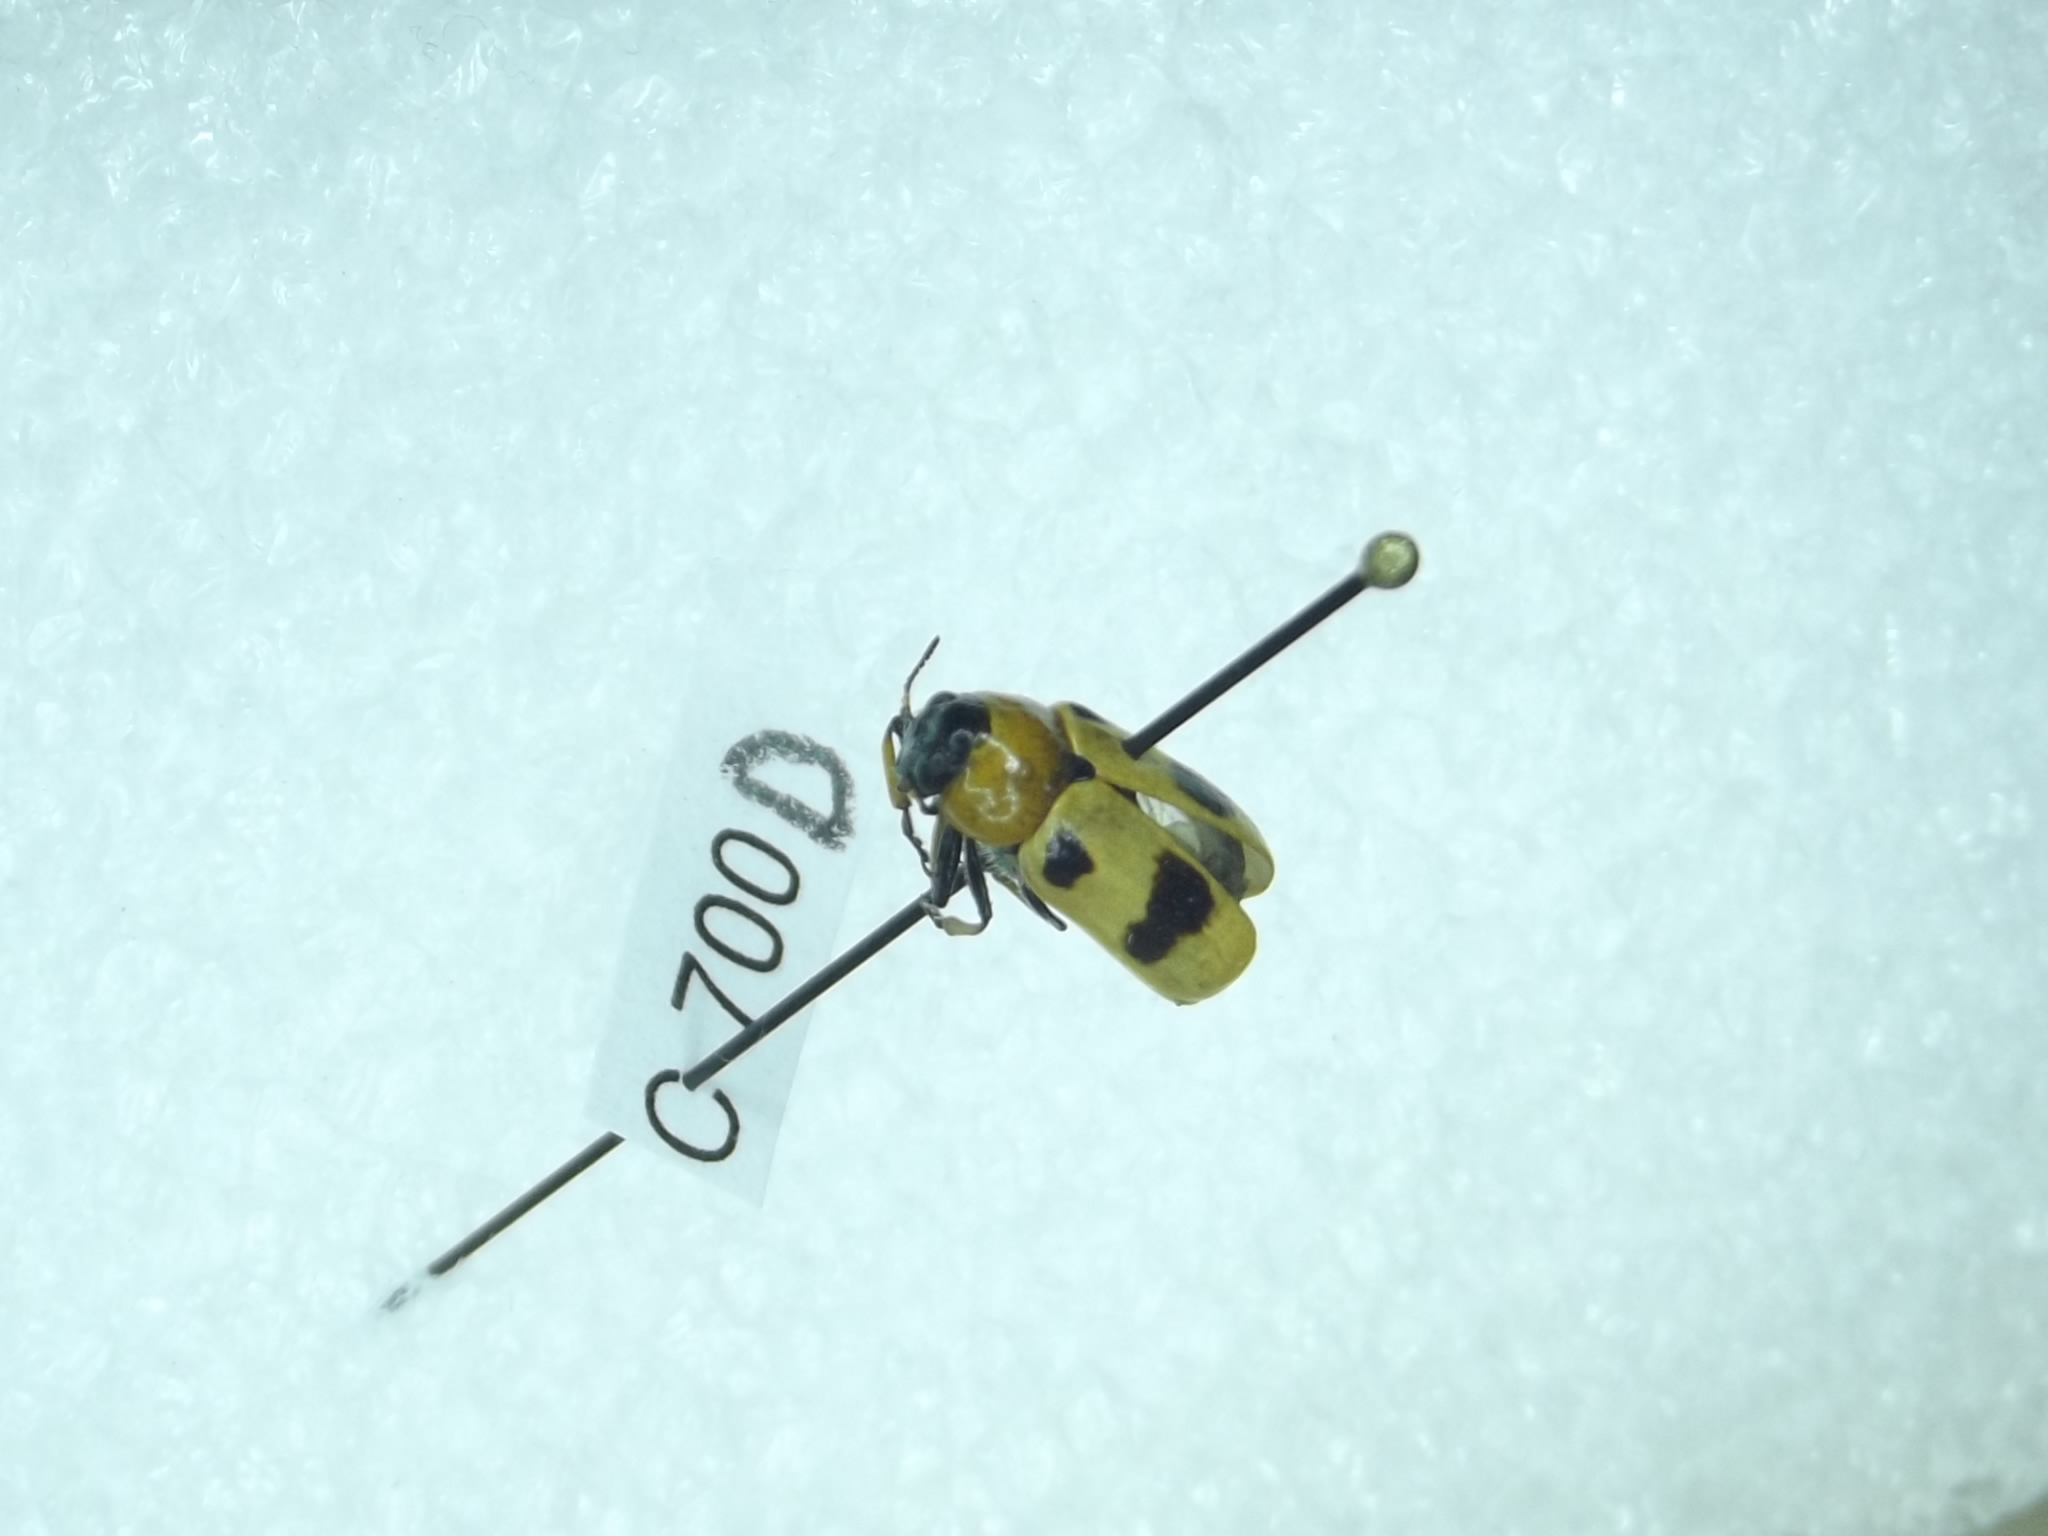Tituboea_macropus: (876, 620, 1285, 1021)
